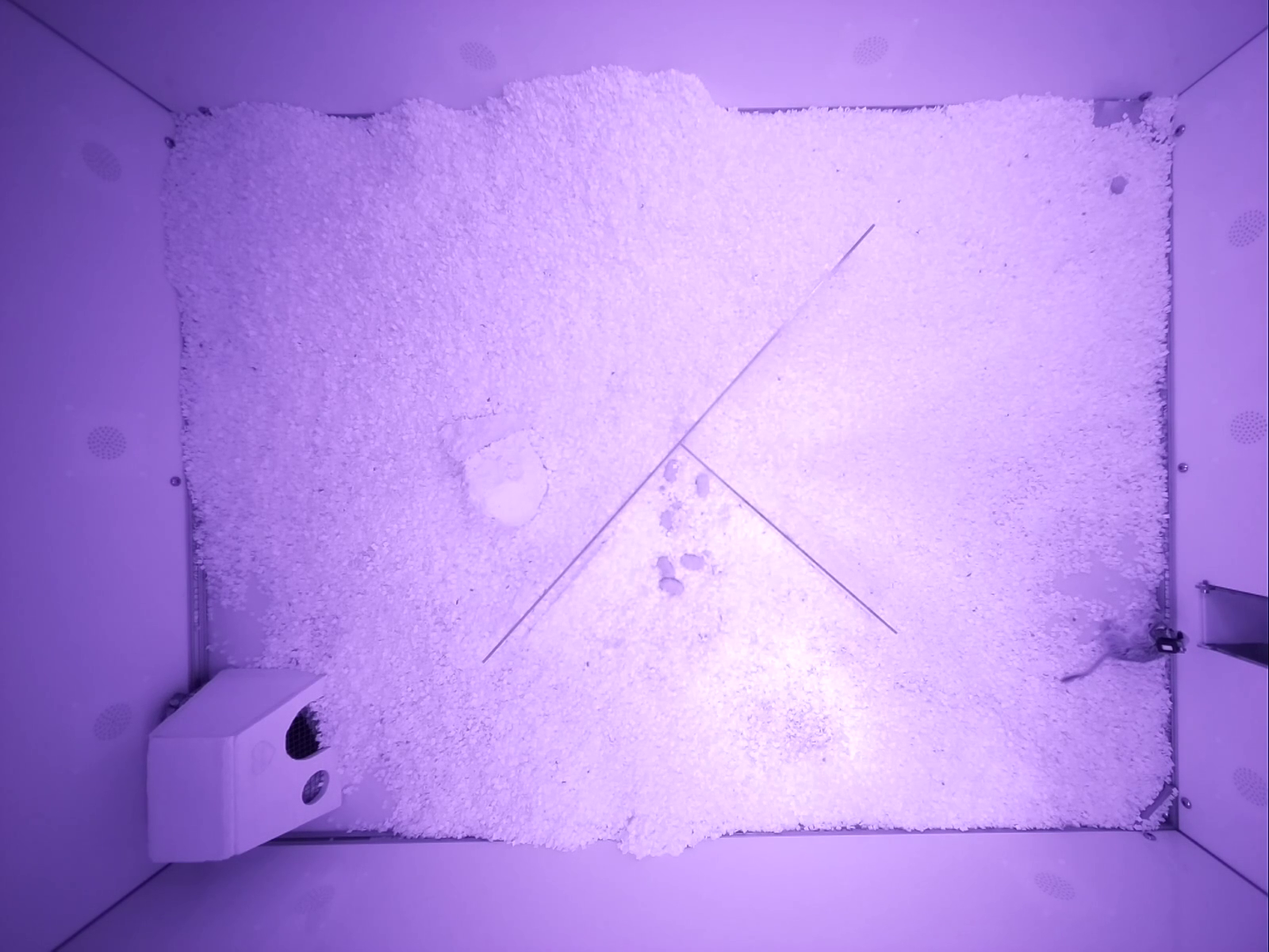adult_back: (1062, 621, 1164, 683)
